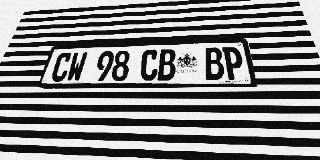8: (110, 50, 131, 81)
9: (93, 51, 115, 81)
B: (204, 47, 225, 80), (157, 49, 176, 81)
C: (49, 52, 73, 82), (139, 49, 159, 81)
P: (222, 47, 245, 80)
W: (65, 52, 88, 82)
